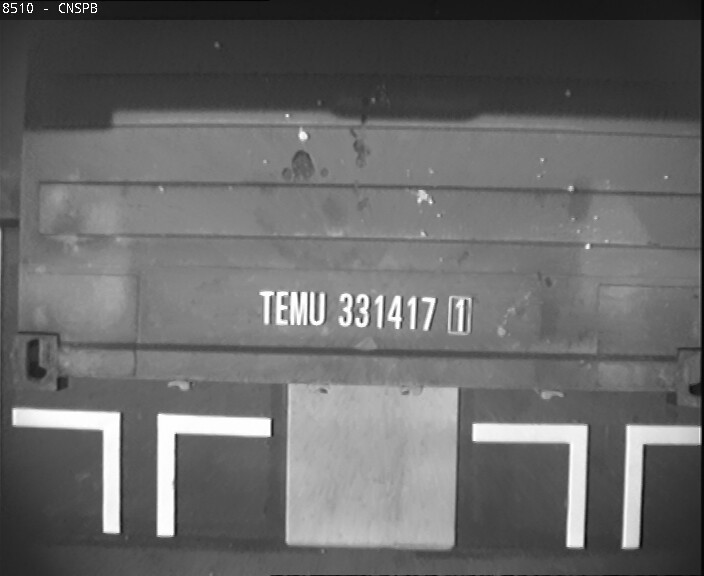groundmarker_1: (12, 403, 272, 537), (472, 422, 704, 548)
